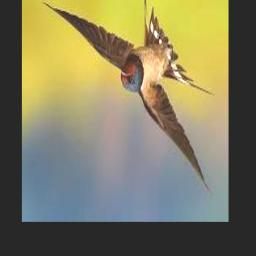Swallow: (43, 0, 214, 197)
